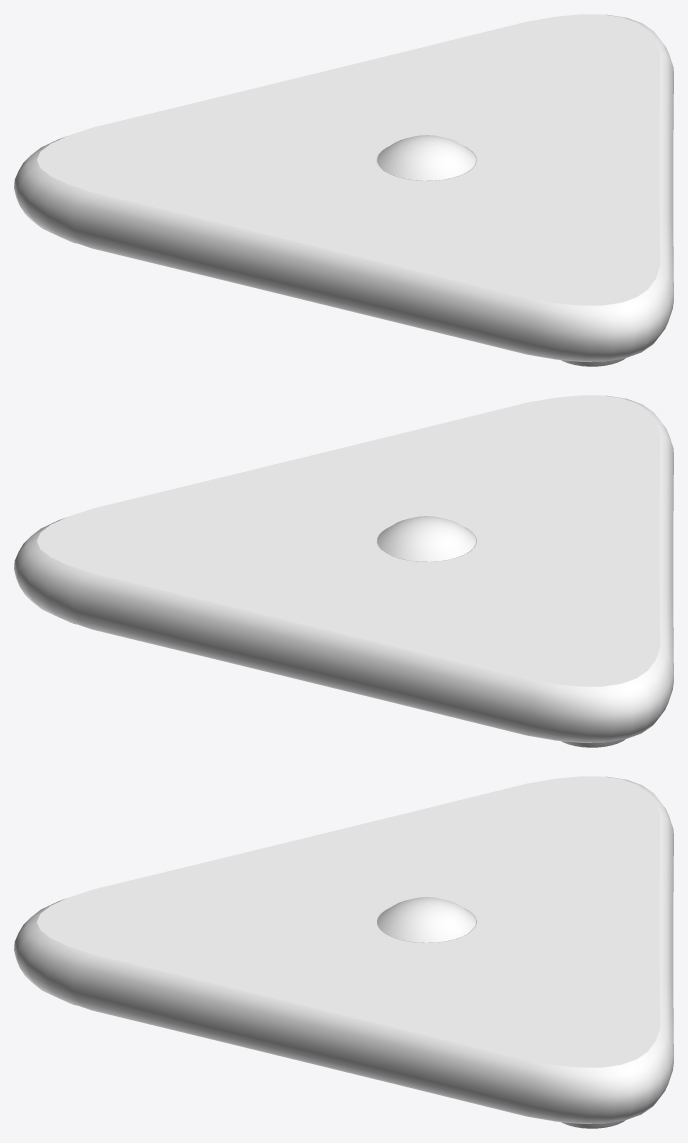
The model's file is UFO.FBX.
The picture shows the model from 3 angles, top to bottom: view 1: azimuth 30°, elevation 25°; view 2: azimuth 150°, elevation 25°; view 3: azimuth 270°, elevation 25°; orthographic projection.
Visible parts, largest first — view 1: UFO_Type1, ReactorBlue; view 2: UFO_Type1, ReactorBlue; view 3: UFO_Type1, ReactorBlue.
Part boxes in pixels (x1,y1,x2,y2): UFO_Type1: [14, 14, 673, 361]; ReactorBlue: [377, 135, 475, 180]; UFO_Type1: [14, 395, 673, 742]; ReactorBlue: [377, 516, 475, 561]; UFO_Type1: [14, 776, 673, 1123]; ReactorBlue: [377, 897, 475, 942].
Bounding box in the file's own units: 68.31 × 11.67 × 61.76.
1 material, 1 textured.
